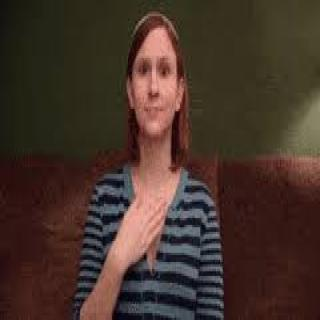Please: (114, 185, 172, 259)
